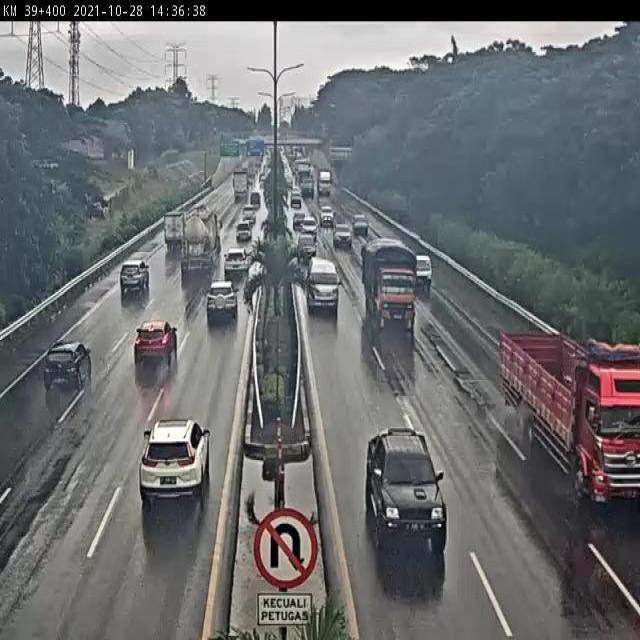truck: (502, 325, 640, 500), (360, 239, 416, 327), (180, 205, 224, 275)
